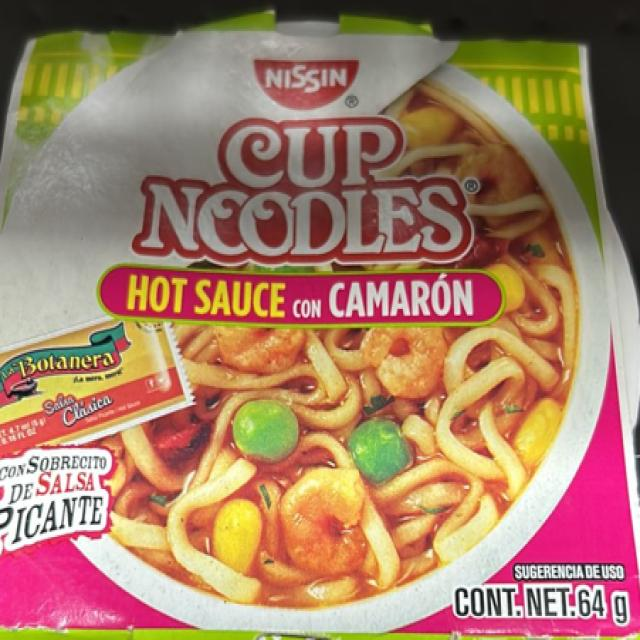nissinCamaron: (22, 33, 591, 635)
